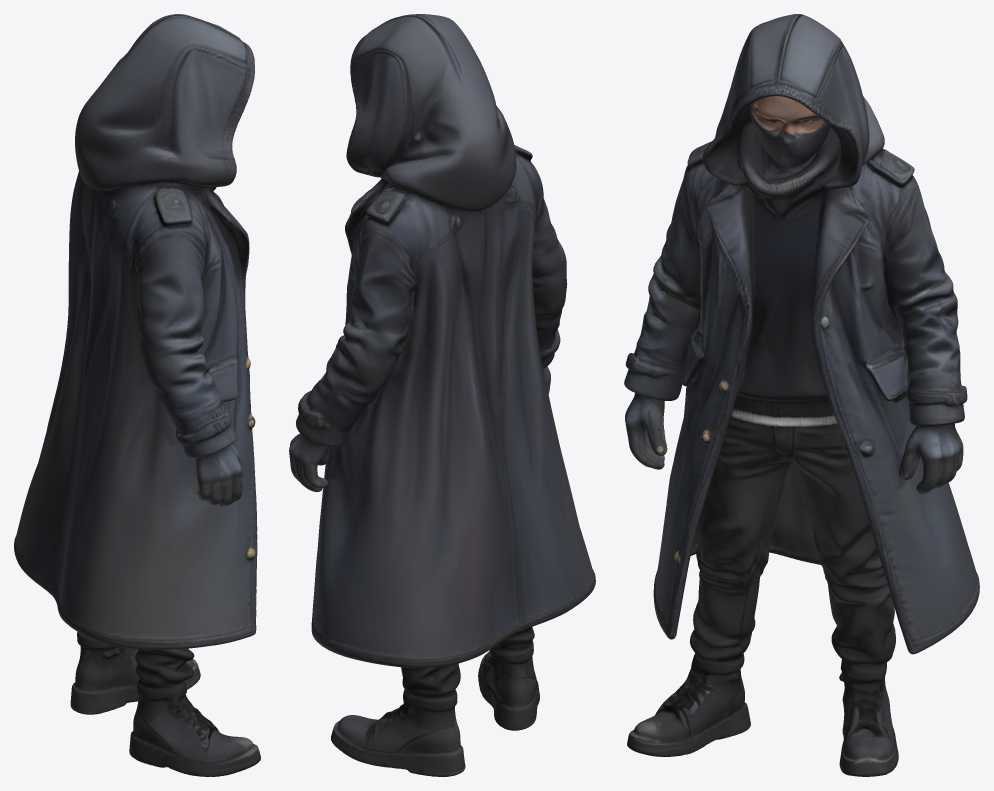
The model's file is bad2.glb.
3 views of the same model, side by side, from view 1: azimuth 30°, elevation 25°; view 2: azimuth 150°, elevation 25°; view 3: azimuth 270°, elevation 25° (orthographic). The views are drawn at different scales.
Visible parts, largest first — view 1: tripo_node_2ef72cc1-6e18-4439-9fb9-0c00c5f54d07; view 2: tripo_node_2ef72cc1-6e18-4439-9fb9-0c00c5f54d07; view 3: tripo_node_2ef72cc1-6e18-4439-9fb9-0c00c5f54d07.
Part boxes in pixels (x1,y1,x2,y2): tripo_node_2ef72cc1-6e18-4439-9fb9-0c00c5f54d07: (14, 14, 260, 776); tripo_node_2ef72cc1-6e18-4439-9fb9-0c00c5f54d07: (289, 14, 595, 776); tripo_node_2ef72cc1-6e18-4439-9fb9-0c00c5f54d07: (624, 14, 979, 776).
Size of the model in its own units: 0.2927 by 1 by 0.4337.
Materials: 1 (1 with a texture image).
